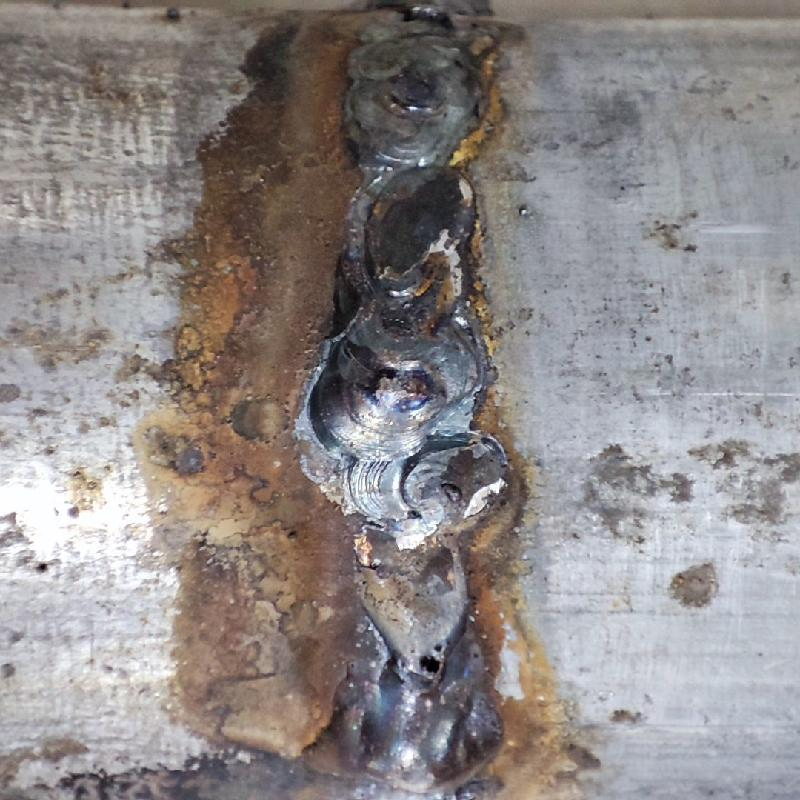Not_fully_soldered: (328, 455, 516, 675)
Surface_pores: (396, 639, 455, 675)
wrong_size: (330, 34, 485, 455)
